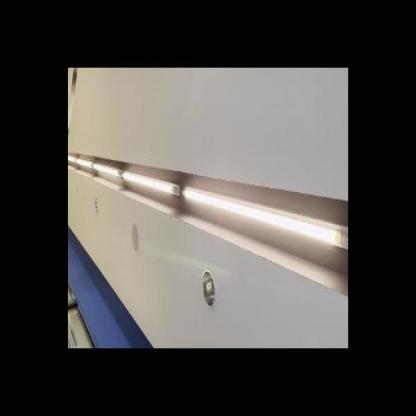light_on: (179, 168, 348, 268), (121, 169, 178, 200), (92, 162, 122, 182), (76, 154, 94, 170), (67, 150, 76, 167)
